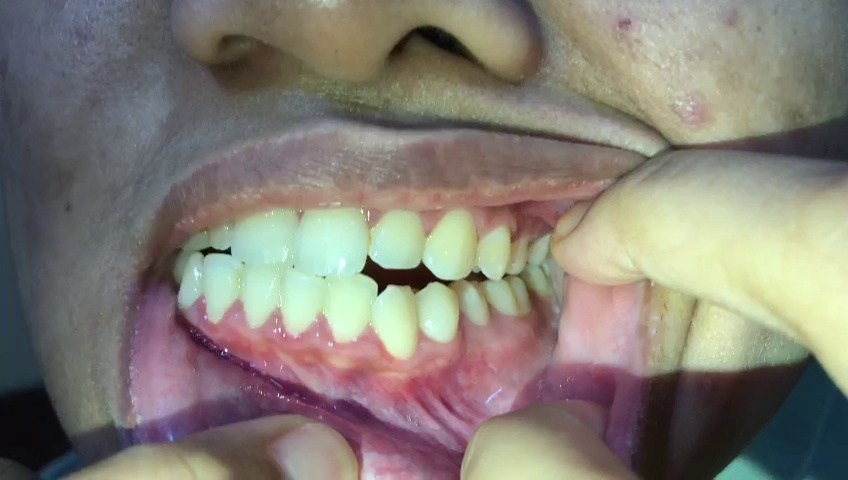1st Molar: (478, 279, 519, 316), (530, 227, 553, 262)
1st Premolar: (416, 283, 458, 342), (478, 223, 510, 279)
2nd Molar: (512, 277, 535, 311)
2nd Premolar: (453, 279, 487, 325), (510, 234, 531, 277)
3rd Molar: (526, 267, 552, 299)
Canine: (372, 283, 422, 363), (424, 208, 478, 281), (179, 253, 207, 311)
Central Incisor: (293, 201, 367, 276), (230, 194, 294, 264), (278, 266, 323, 336), (240, 262, 283, 331)
Lateral Incisor: (321, 271, 378, 342), (365, 206, 425, 269), (202, 251, 241, 322)
